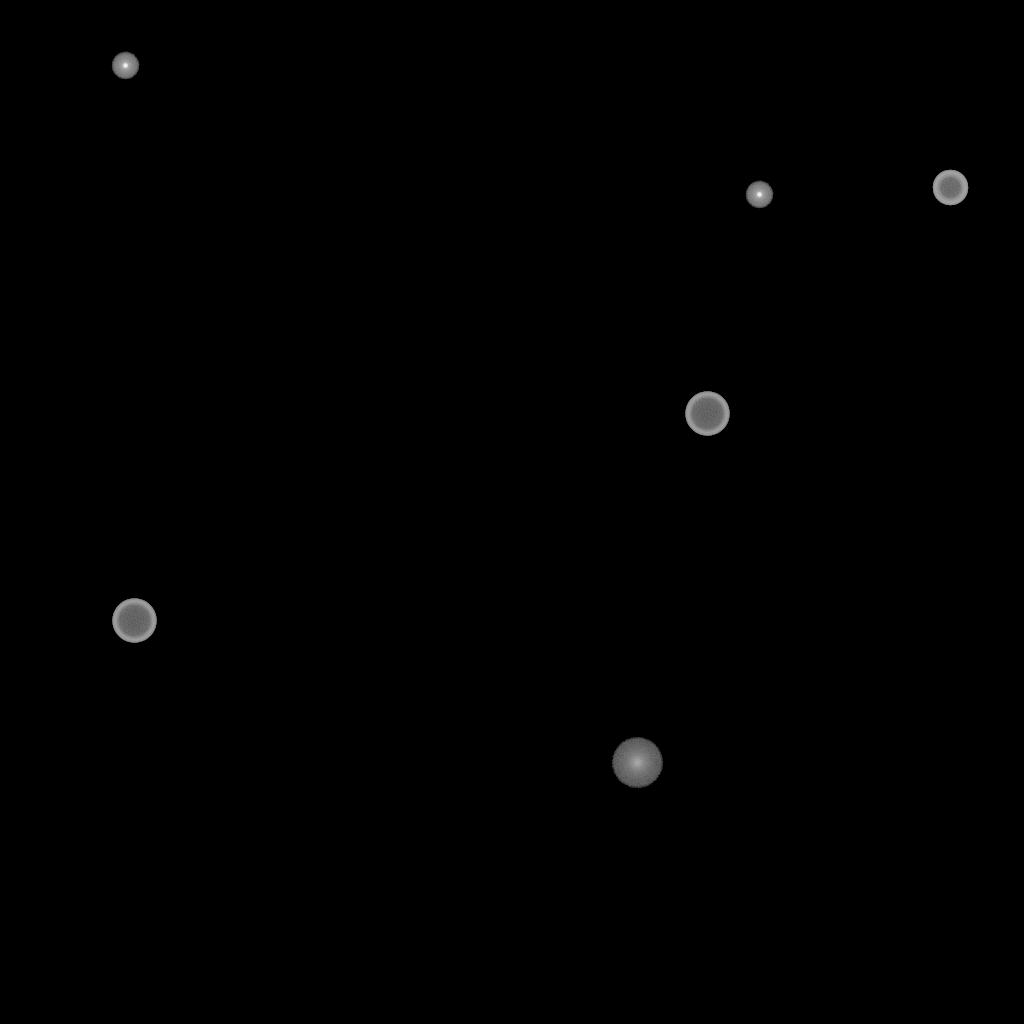depth:-10: (745, 181, 773, 209), (111, 52, 139, 80)
depth:-60: (932, 170, 968, 206)
depth:-70: (685, 392, 729, 436), (112, 599, 156, 643)
depth:20: (611, 738, 663, 788)
